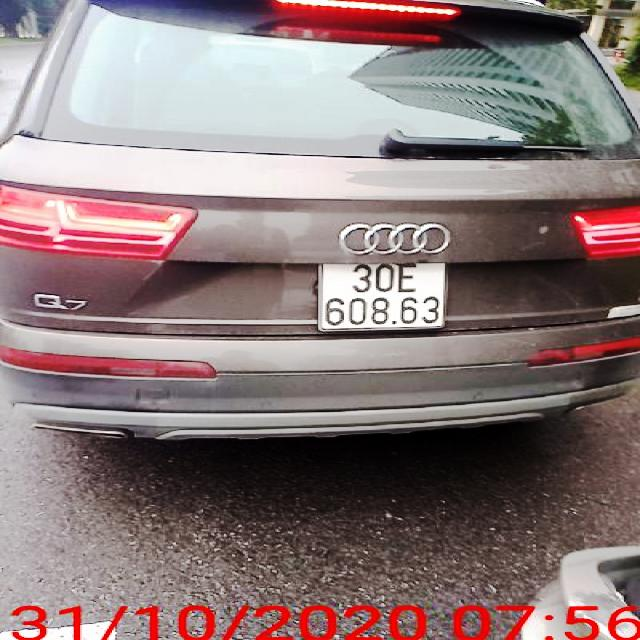license_plate: (320, 263, 445, 329)
